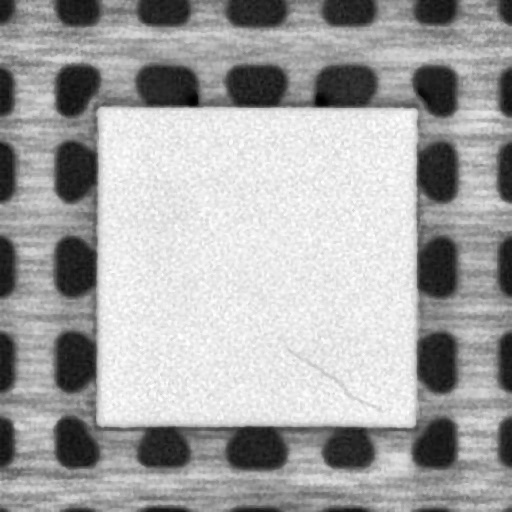DIE_CRACK: (284, 344, 380, 414)
